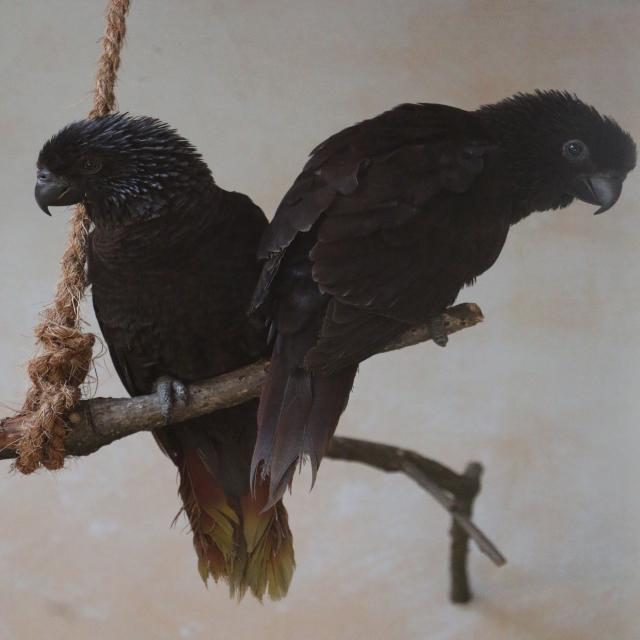Nuri Hitam: (241, 61, 640, 521), (12, 93, 303, 613)
